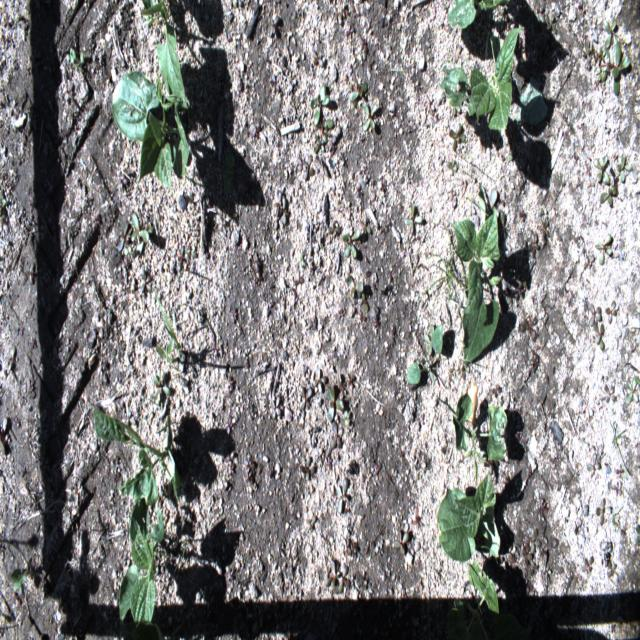crop: (448, 180, 503, 362), (92, 403, 184, 507), (111, 70, 189, 192), (439, 26, 524, 129), (119, 496, 170, 630), (447, 559, 532, 639), (437, 471, 501, 562), (141, 0, 188, 108), (453, 393, 508, 485), (448, 0, 510, 29), (118, 619, 164, 639), (157, 334, 176, 364)
weed: (416, 223, 466, 312), (406, 325, 443, 385), (154, 290, 181, 352), (600, 41, 630, 95), (444, 248, 468, 307), (610, 419, 632, 479), (324, 373, 347, 422), (467, 560, 485, 620), (169, 539, 188, 587), (312, 83, 329, 127), (134, 224, 155, 258), (10, 561, 33, 592), (128, 212, 150, 244), (595, 231, 614, 267), (593, 152, 612, 186), (342, 228, 362, 260), (324, 560, 342, 594), (403, 203, 423, 233), (153, 370, 172, 401), (422, 323, 439, 357), (602, 18, 620, 50), (488, 187, 505, 220), (595, 496, 613, 527), (436, 396, 460, 419), (448, 123, 467, 152), (361, 101, 378, 133), (392, 528, 410, 558), (615, 154, 633, 184), (336, 477, 350, 515), (349, 80, 368, 107), (346, 273, 364, 301), (117, 220, 133, 251), (329, 420, 344, 452), (298, 384, 314, 412), (335, 566, 351, 594), (526, 526, 542, 554), (582, 39, 596, 71), (592, 322, 606, 354), (599, 185, 619, 207), (625, 376, 639, 406), (612, 505, 624, 540), (483, 448, 499, 474), (588, 300, 602, 329), (302, 154, 316, 182), (312, 368, 327, 394), (604, 298, 618, 325), (527, 230, 540, 259), (522, 316, 538, 339), (587, 452, 601, 478), (120, 409, 136, 431), (301, 456, 315, 481), (521, 539, 533, 568), (511, 278, 525, 302), (535, 0, 547, 28), (140, 268, 152, 294), (304, 513, 318, 535), (602, 382, 616, 404), (315, 118, 334, 134), (176, 245, 187, 271), (545, 14, 558, 36), (527, 348, 538, 373), (274, 190, 284, 217), (498, 210, 507, 240), (183, 242, 197, 261), (581, 555, 595, 574), (606, 558, 618, 580), (252, 250, 261, 279), (180, 410, 193, 430), (282, 194, 290, 226), (71, 51, 83, 72), (452, 89, 461, 116), (582, 252, 595, 270), (332, 5, 343, 26), (360, 290, 370, 313), (314, 134, 324, 156), (596, 324, 606, 346), (594, 48, 606, 66), (360, 217, 371, 236), (596, 64, 607, 83), (632, 522, 640, 548), (312, 51, 324, 68), (446, 159, 458, 176), (540, 219, 550, 239), (428, 107, 439, 125), (328, 222, 341, 237), (310, 93, 322, 109), (358, 36, 368, 55), (0, 190, 7, 216), (177, 340, 186, 360), (224, 416, 233, 436), (342, 538, 352, 556), (613, 480, 623, 498), (574, 518, 584, 536), (506, 543, 517, 559), (66, 47, 76, 64), (328, 133, 337, 151), (297, 156, 307, 172), (373, 461, 383, 477), (518, 208, 528, 224), (441, 64, 454, 76), (28, 262, 35, 284), (350, 539, 359, 556), (348, 371, 357, 388), (322, 124, 330, 143), (544, 561, 552, 580), (492, 384, 502, 399), (243, 459, 254, 472), (615, 464, 625, 478), (298, 252, 306, 267), (346, 26, 354, 40), (294, 275, 304, 286), (124, 243, 132, 256), (509, 146, 515, 162), (461, 364, 466, 380), (344, 411, 348, 428), (635, 376, 640, 386), (610, 407, 615, 415)
